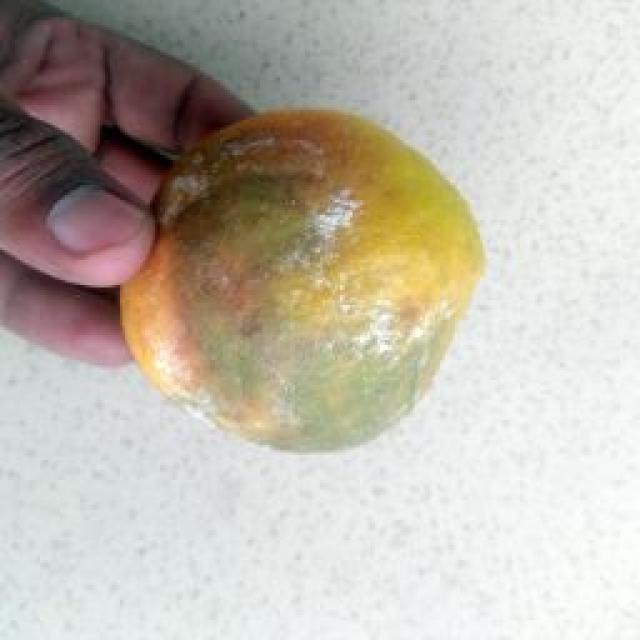Bad_Orange: (121, 110, 484, 449)
